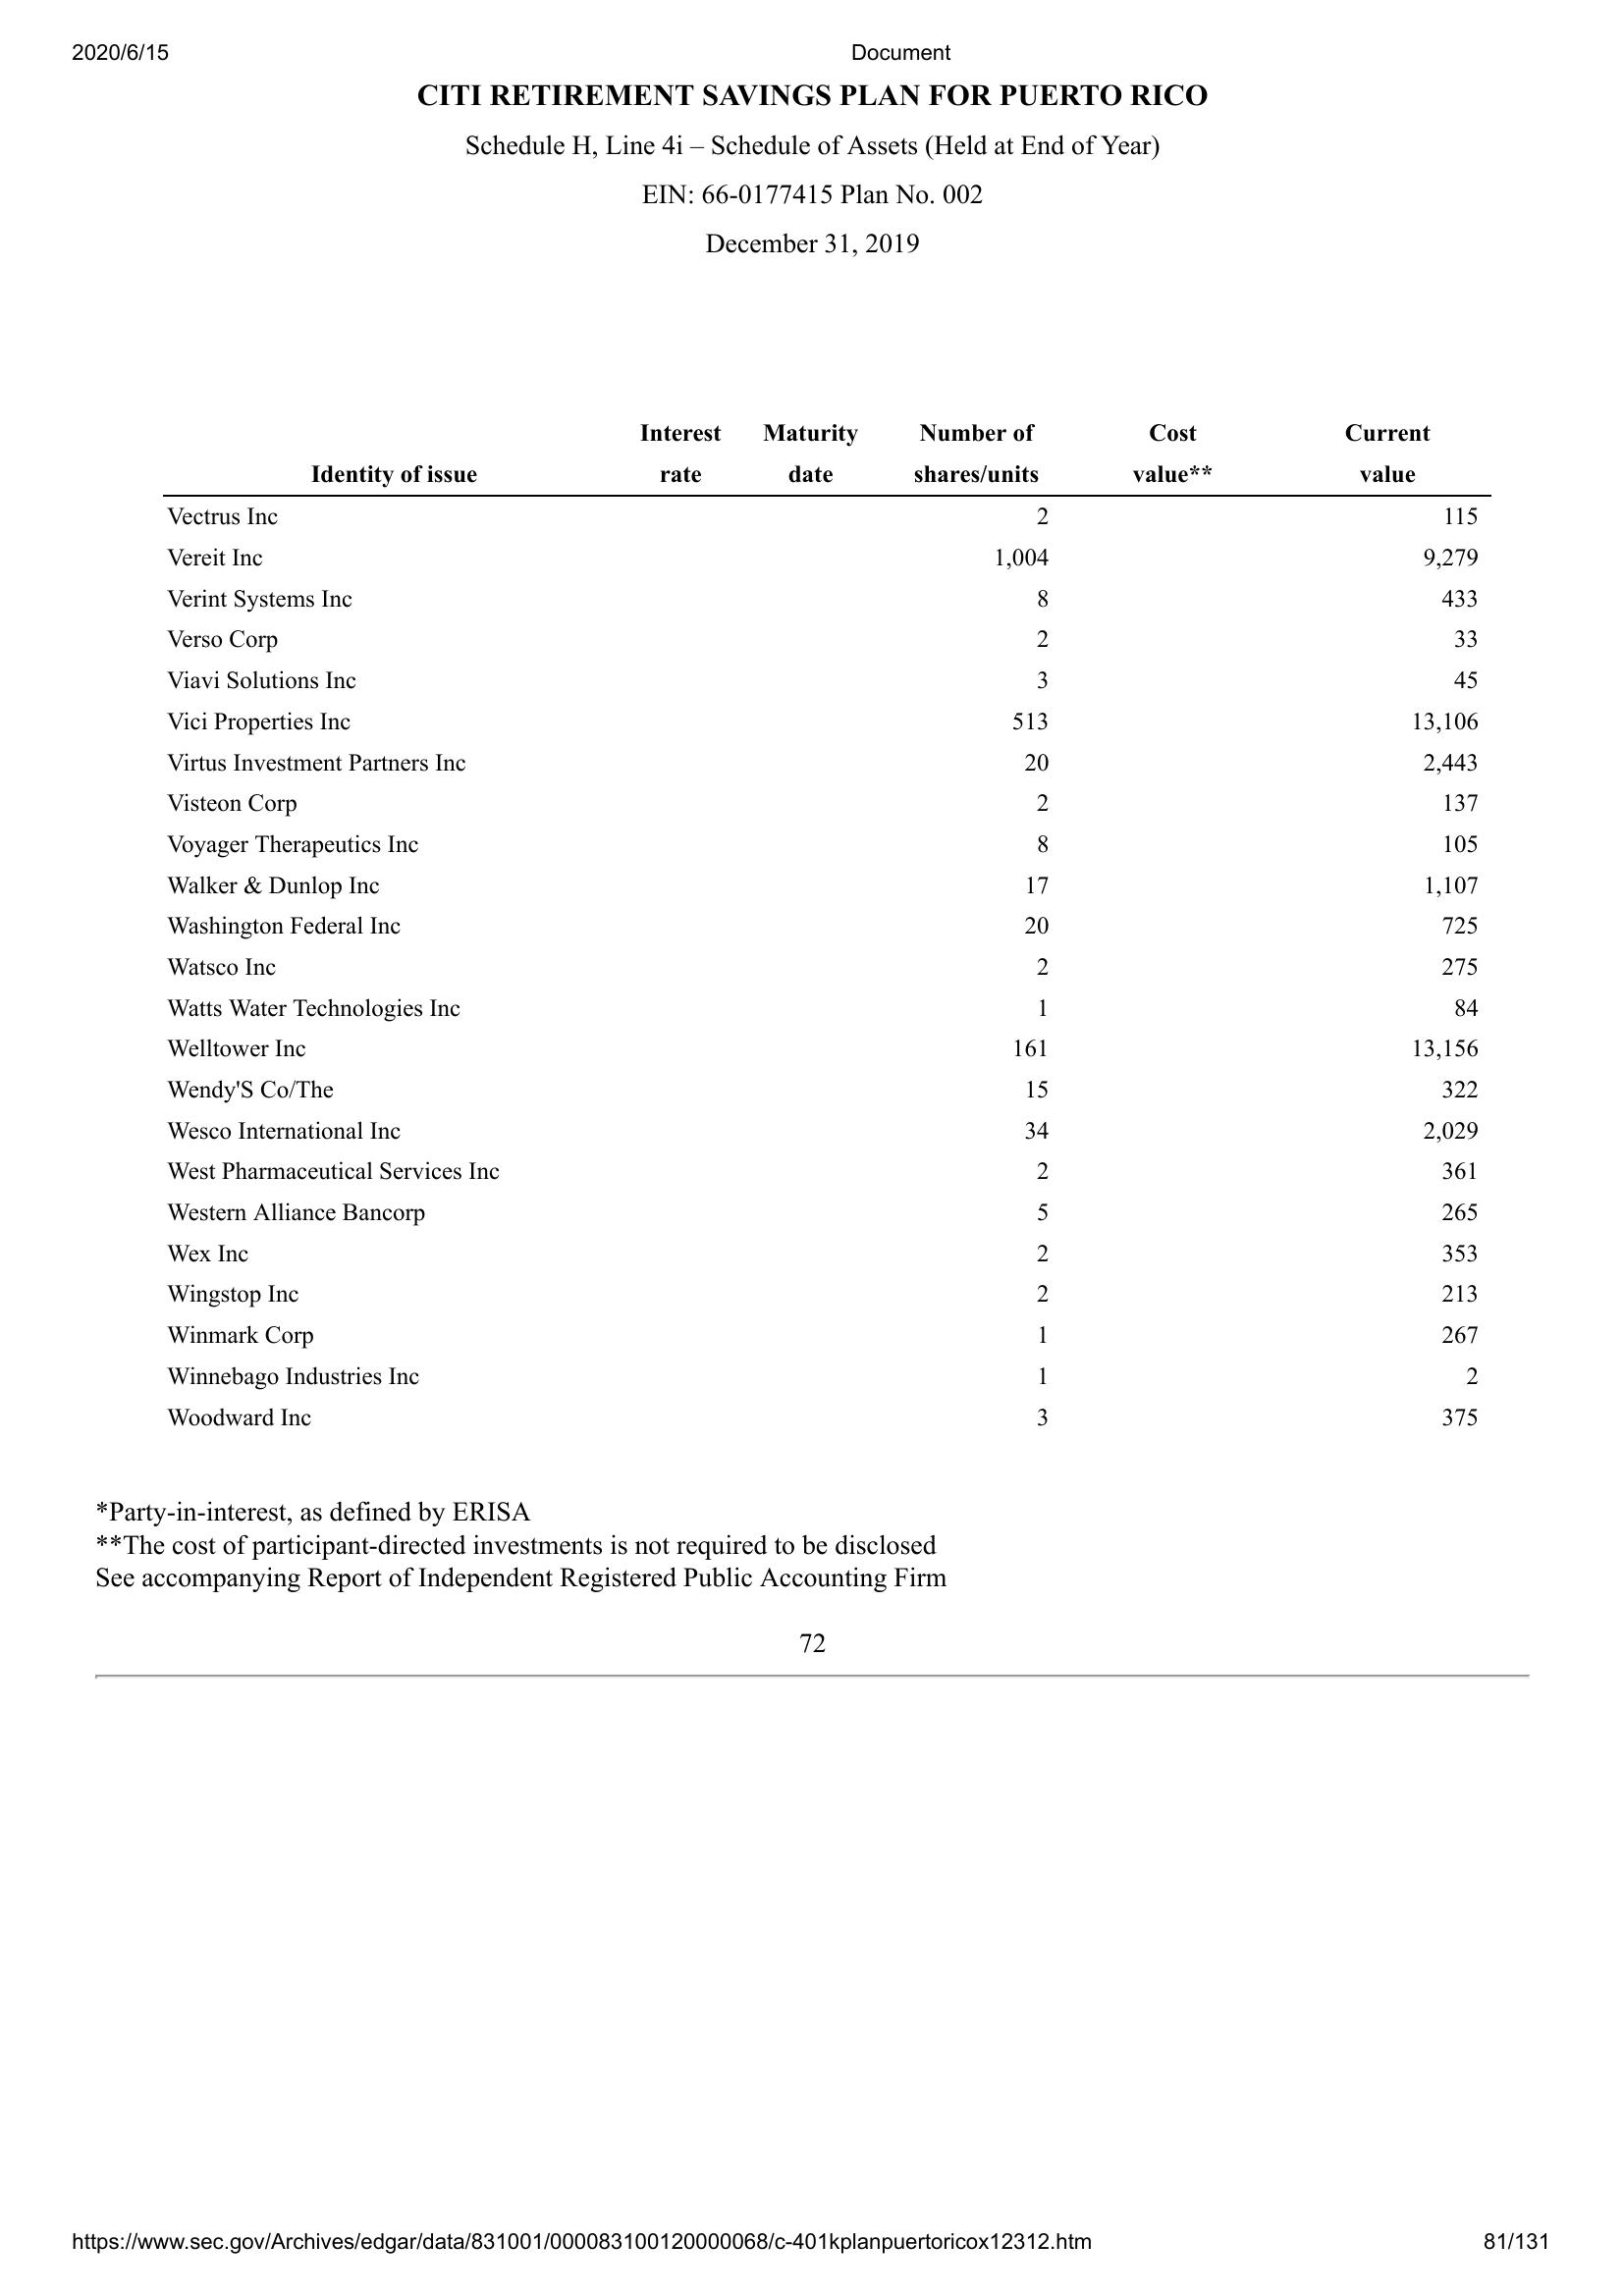table: (165, 420, 1498, 1436)
